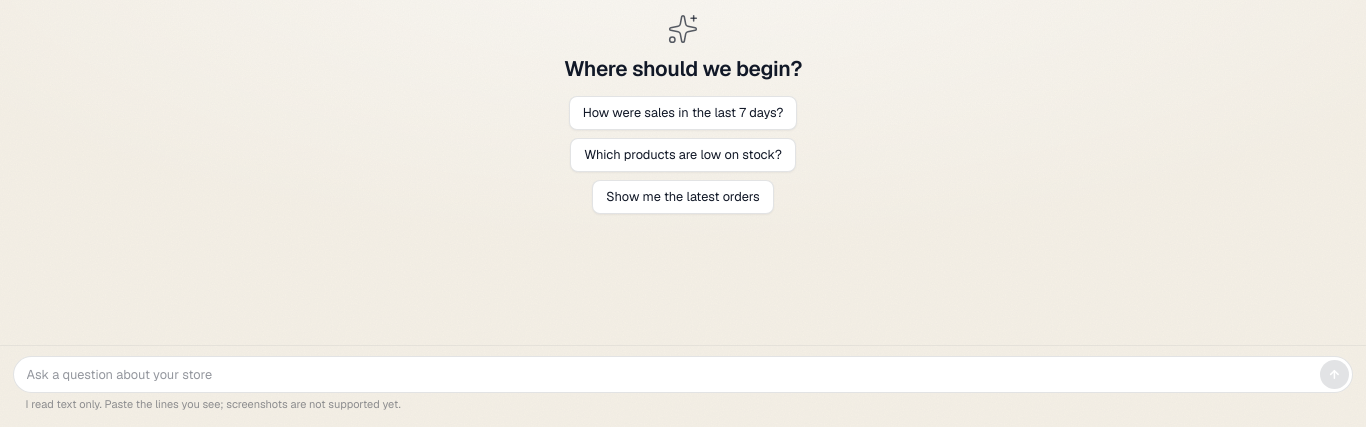
Test: AssistantChat › Send and Stop › sends with Enter
In the field named "Your question": (670, 374) [27,360,1314,389], type "Low stock?"
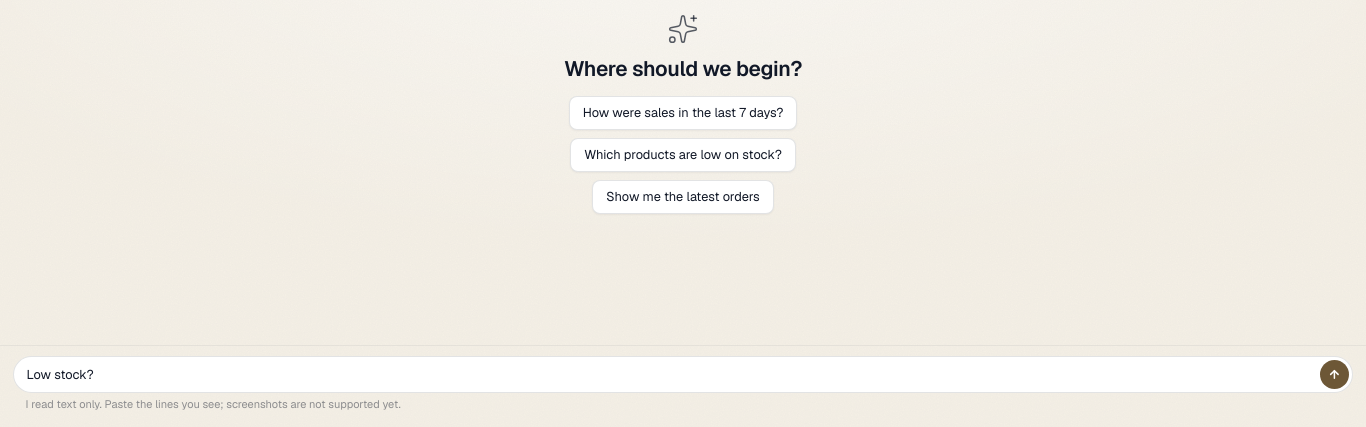
Submit the form named "Your question", box [13,356,1353,393]
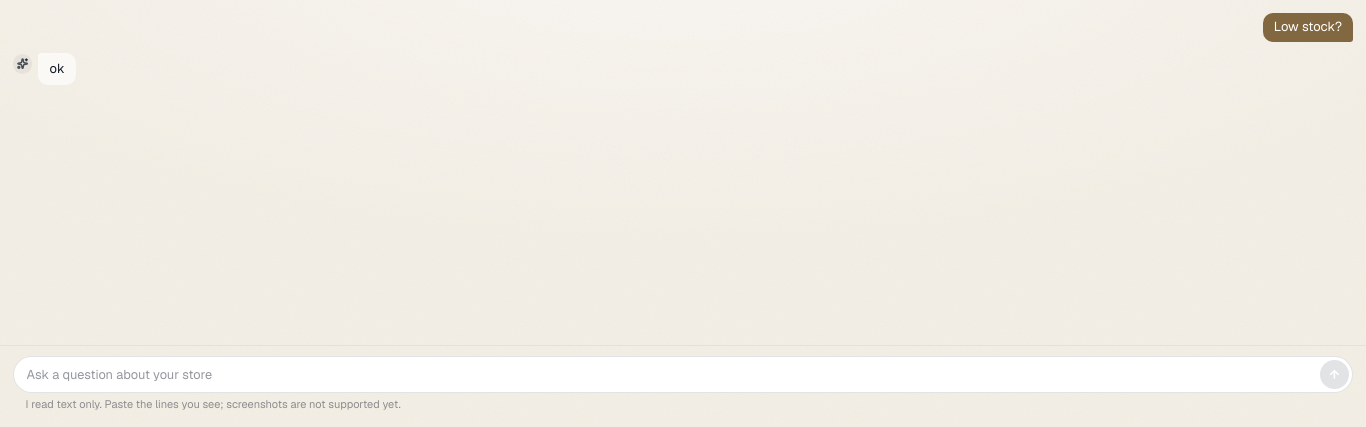
expect the text "Low stock?" is shown: met, box [1263,13,1353,42]
